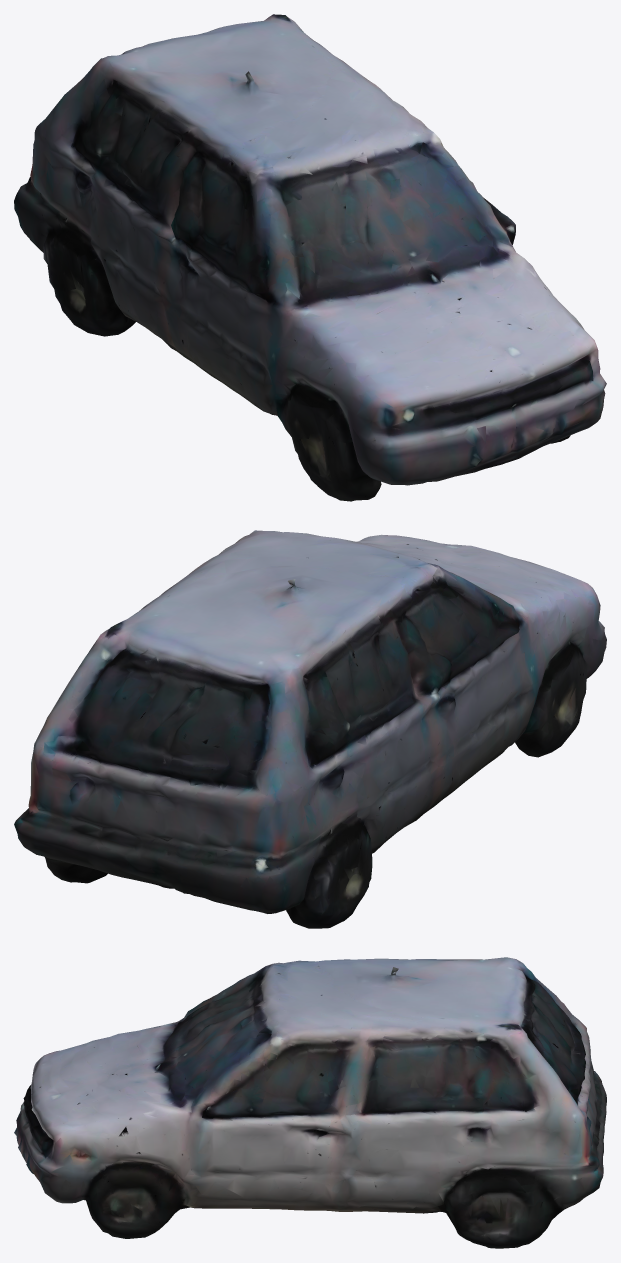
The model's file is maruti.glb.
The picture shows the model from 3 angles, top to bottom: view 1: azimuth 30°, elevation 25°; view 2: azimuth 150°, elevation 25°; view 3: azimuth 270°, elevation 25°; orthographic projection. The views are drawn at different scales.
Parts seen in each view (by area): view 1: body; view 2: body; view 3: body.
Boxes of the visible parts, x1,y1,x2,y2 form: body: (14,14,606,501); body: (14,530,606,928); body: (14,957,606,1248).
Size of the model in its own units: 1.44 by 1.41 by 3.34.
1 material, 1 textured.
